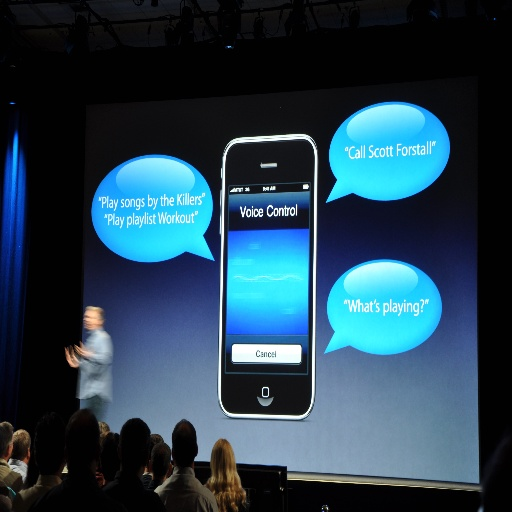hand: (62, 348, 76, 369), (74, 340, 86, 358)
